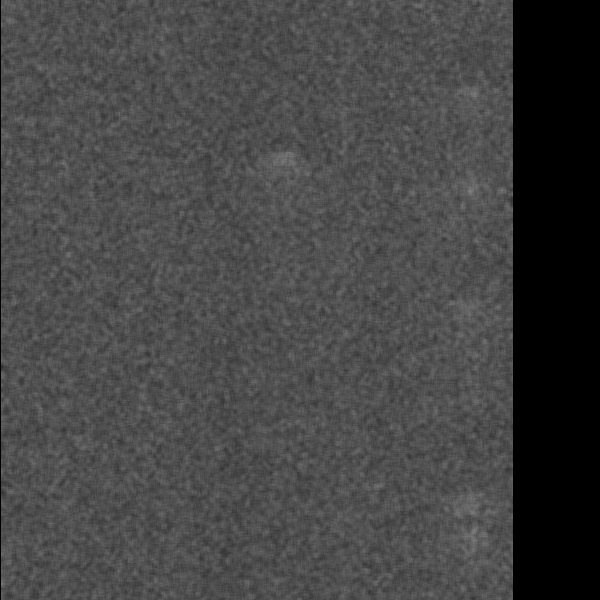spark: (389, 128, 434, 191), (72, 91, 113, 131)
